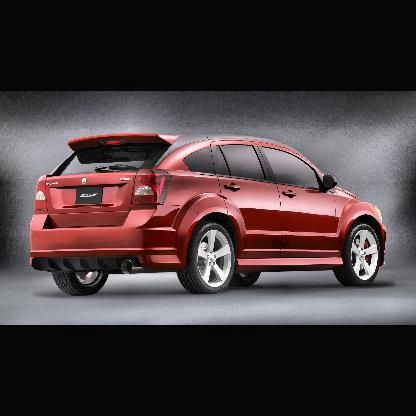Dodge Caliber Wagon 2012: (30, 133, 388, 297)
